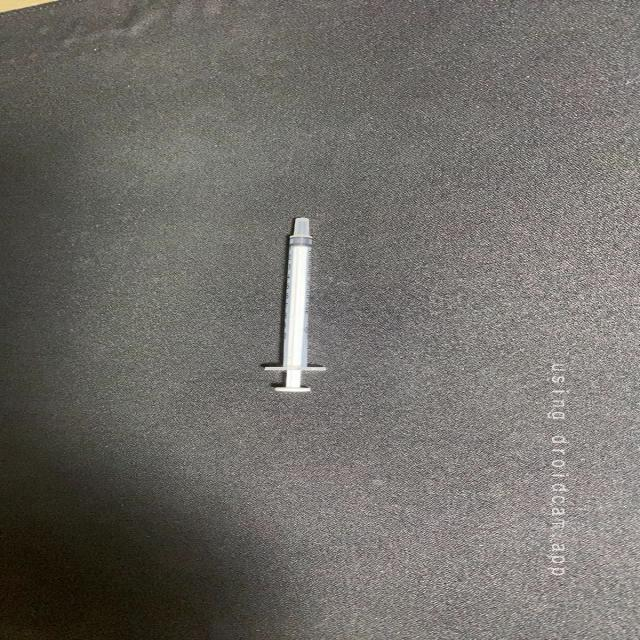syringe: (256, 214, 341, 399)
